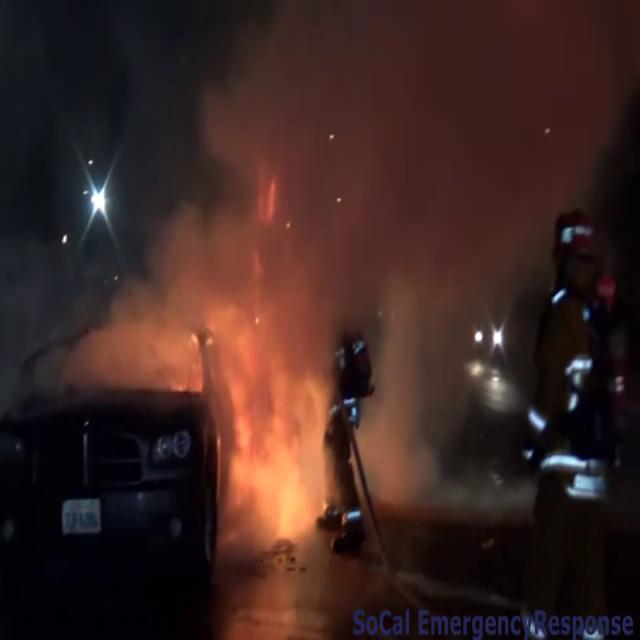Fire: (158, 188, 344, 546)
Smoke: (147, 0, 613, 515)
